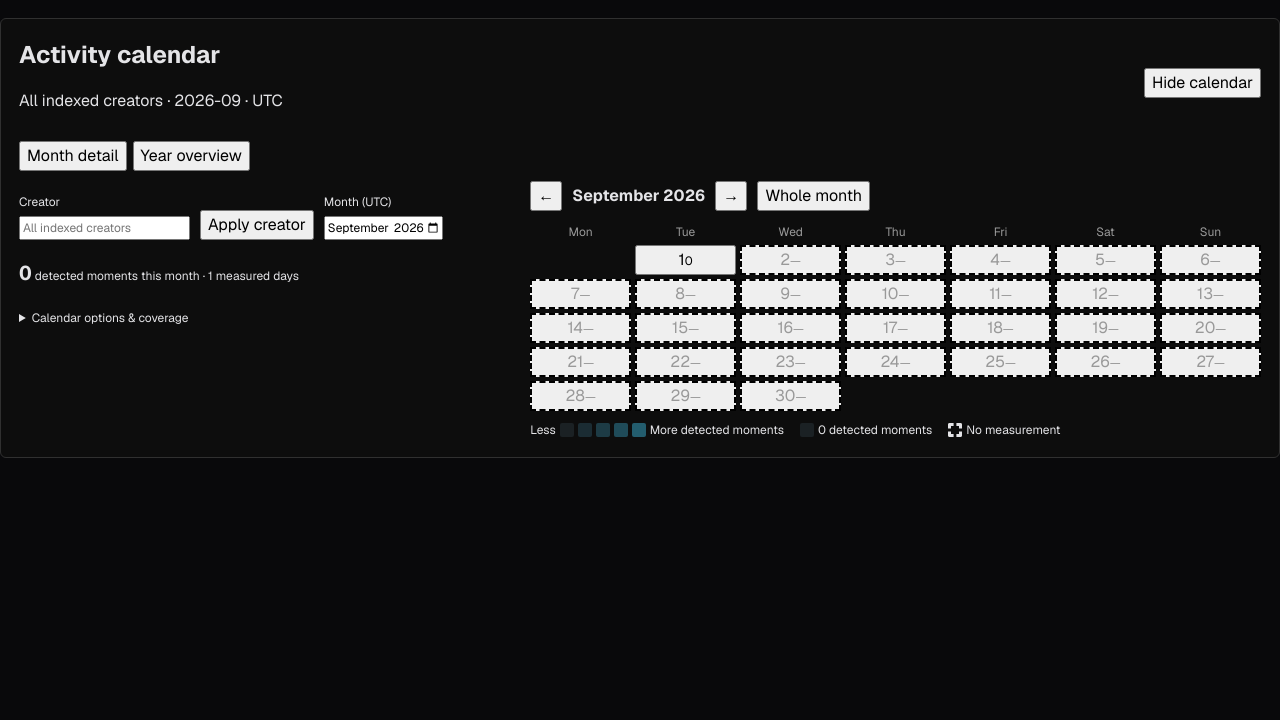
stored discovery contract › presents ready stored activity with the two supplied collection timestamps
Click the heading "Calendar options & coverage": x=110, y=318 [32,310,188,326]
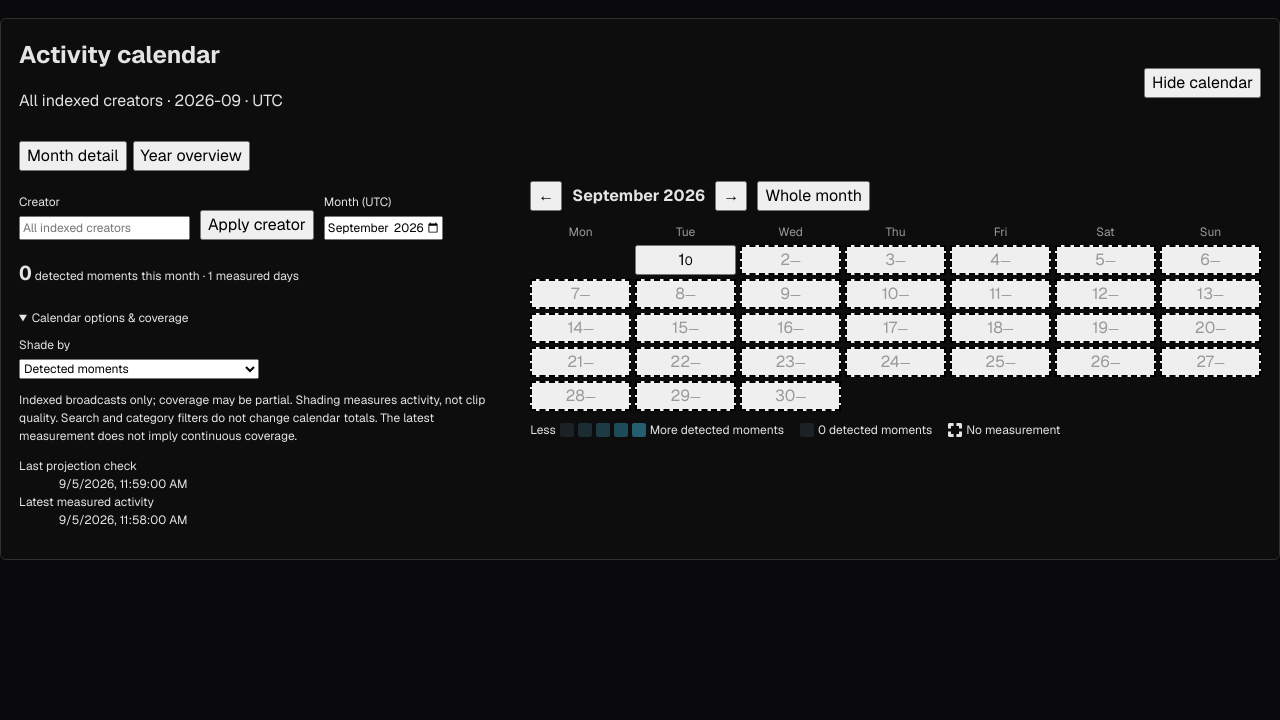
Expected: the element named "Calendar options and coverage" shows "Indexed broadcasts only; coverage may be partial", [19,392,486,444]
Expected: the text "9/5/2026, 11:59:00 AM" is shown, [59,476,188,492]
Expected: the text "9/5/2026, 11:58:00 AM" is shown, [59,512,188,528]
